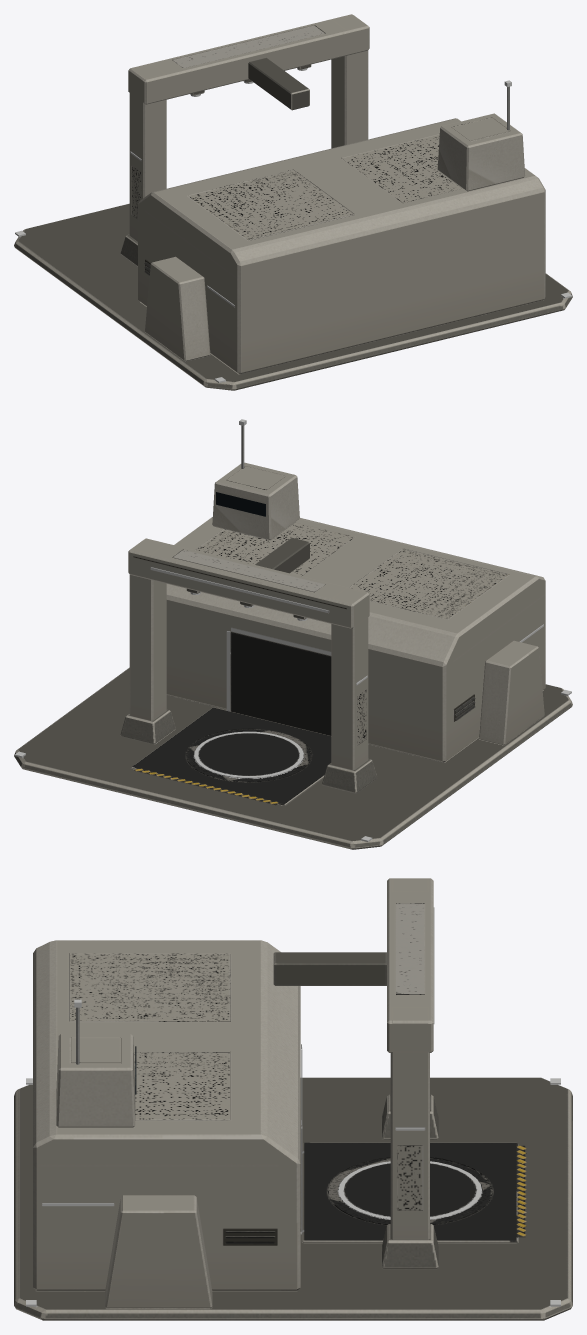
Rendered from ord_botlab.fbx.
The picture shows the model from 3 angles, top to bottom: view 1: azimuth 30°, elevation 25°; view 2: azimuth 150°, elevation 25°; view 3: azimuth 270°, elevation 25°; orthographic projection. The views are drawn at different scales.
Parts seen in each view (by area): view 1: base_bar; view 2: base_bar, base_glow_running_bar, base_glow_power_bar; view 3: base_bar, base_glow_power_bar, base_glow_running_bar.
Part boxes in pixels (x1,y1,x2,y2): base_bar: (14, 14, 572, 390); base_bar: (14, 425, 572, 849); base_glow_running_bar: (15, 419, 571, 841); base_glow_power_bar: (190, 592, 307, 778); base_bar: (14, 878, 572, 1320); base_glow_power_bar: (301, 1047, 481, 1234); base_glow_running_bar: (26, 907, 560, 1306).
Size of the model in its own units: 3112 by 1965 by 3112.
Materials: 2 (2 with a texture image).
